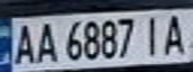6: (60, 17, 84, 62)
7: (115, 15, 142, 58)
8: (81, 17, 103, 61), (100, 16, 121, 61)
A: (160, 11, 193, 56), (9, 20, 39, 65), (33, 19, 57, 64)
I: (139, 11, 169, 57)
